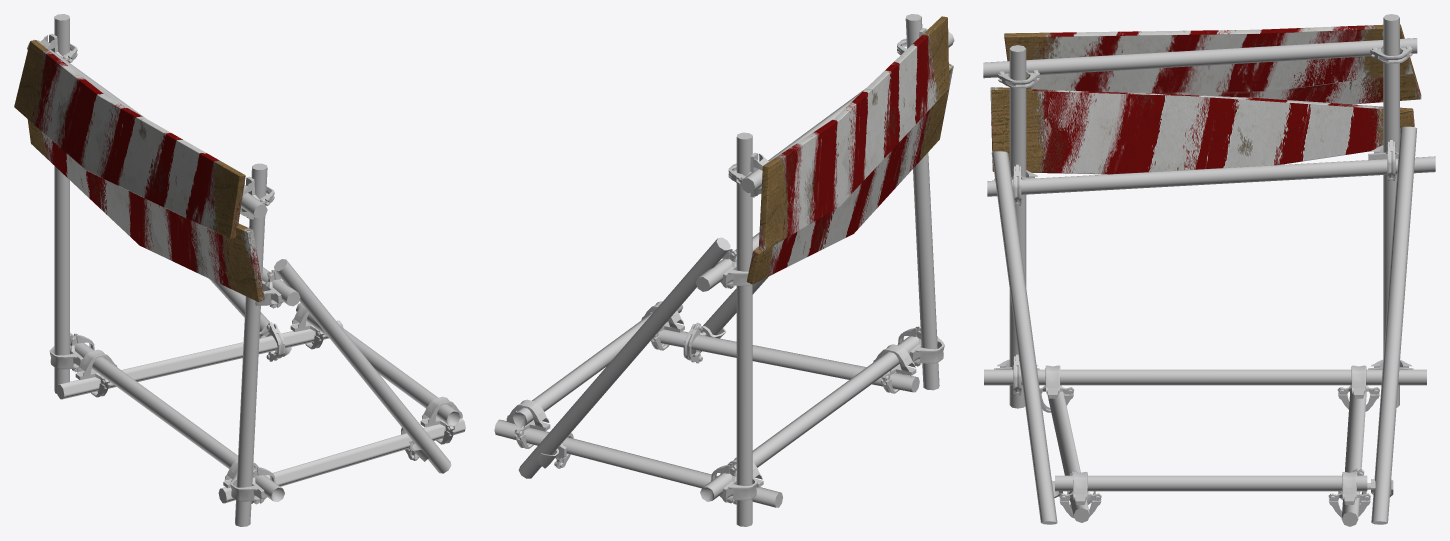
File: propHurdle.fbx
The picture shows the model from 3 angles, left to right: view 1: azimuth 30°, elevation 25°; view 2: azimuth 150°, elevation 25°; view 3: azimuth 270°, elevation 25°; orthographic projection. The views are drawn at different scales.
Visible parts, largest first — view 1: propHurdle_geom; view 2: propHurdle_geom; view 3: propHurdle_geom.
Part boxes in pixels (<box>): propHurdle_geom: <box>14,14,465,526</box>; propHurdle_geom: <box>494,14,954,526</box>; propHurdle_geom: <box>983,14,1435,526</box>.
Bounding box in the file's own units: 120 × 152 × 156.
